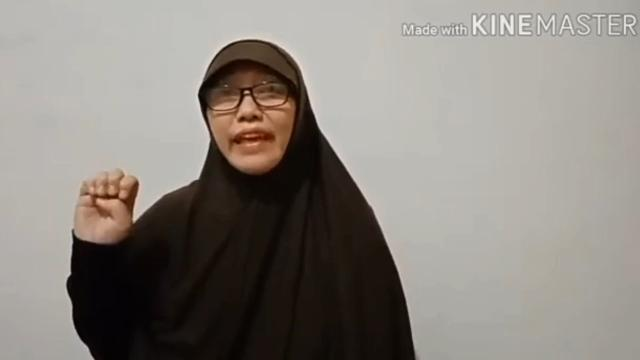E: (74, 169, 140, 243)
